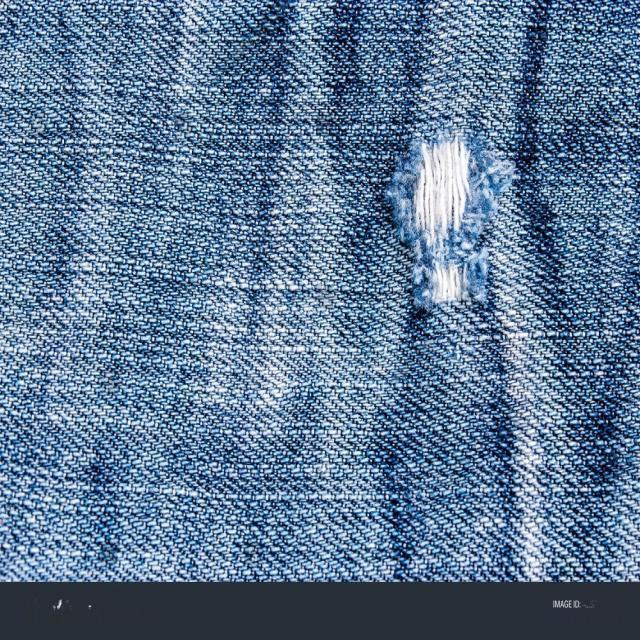Hole: (387, 130, 515, 309)
